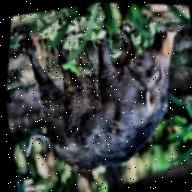boar: (27, 20, 192, 188)
